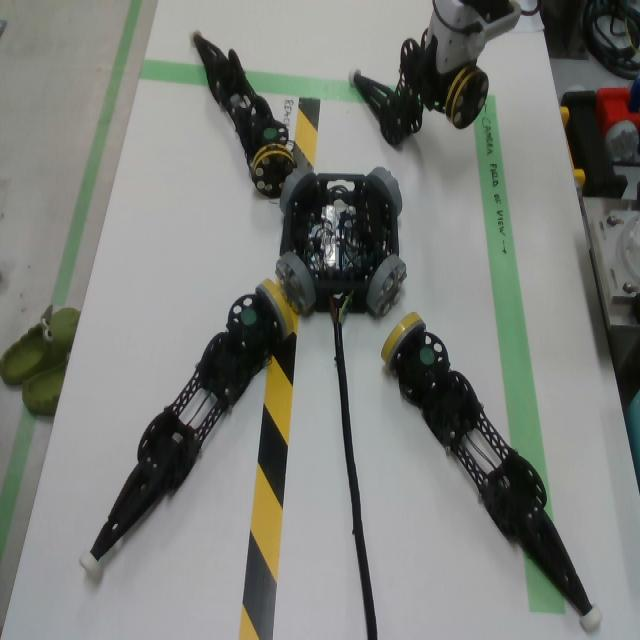body: (280, 173, 399, 315)
body_connector: (366, 255, 408, 317), (276, 252, 316, 316), (368, 167, 403, 216), (280, 168, 317, 213)
gripper: (415, 12, 485, 112)
leg: (381, 312, 604, 633), (79, 277, 293, 581), (189, 25, 297, 197), (348, 28, 428, 147), (430, 63, 489, 131)
leg_connector: (445, 65, 489, 131), (381, 312, 427, 372), (255, 279, 294, 341), (252, 144, 297, 197)
leg_marker: (241, 308, 256, 324), (420, 348, 434, 364), (264, 128, 277, 137)
